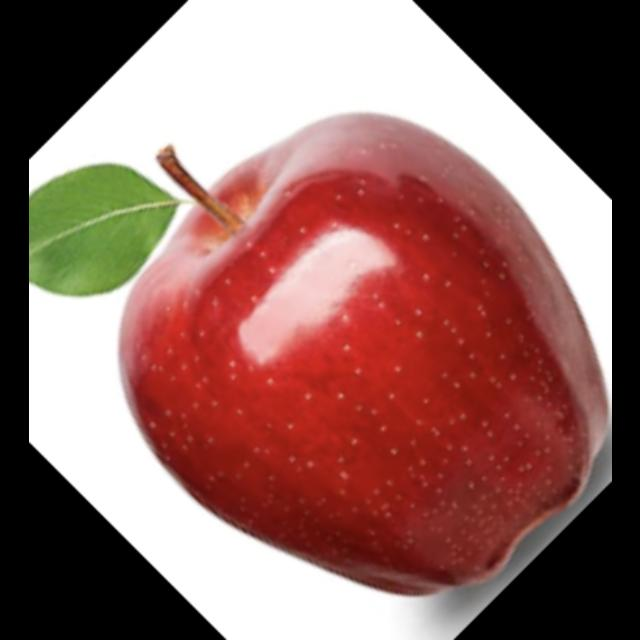Apel Segar: (108, 101, 612, 613)
